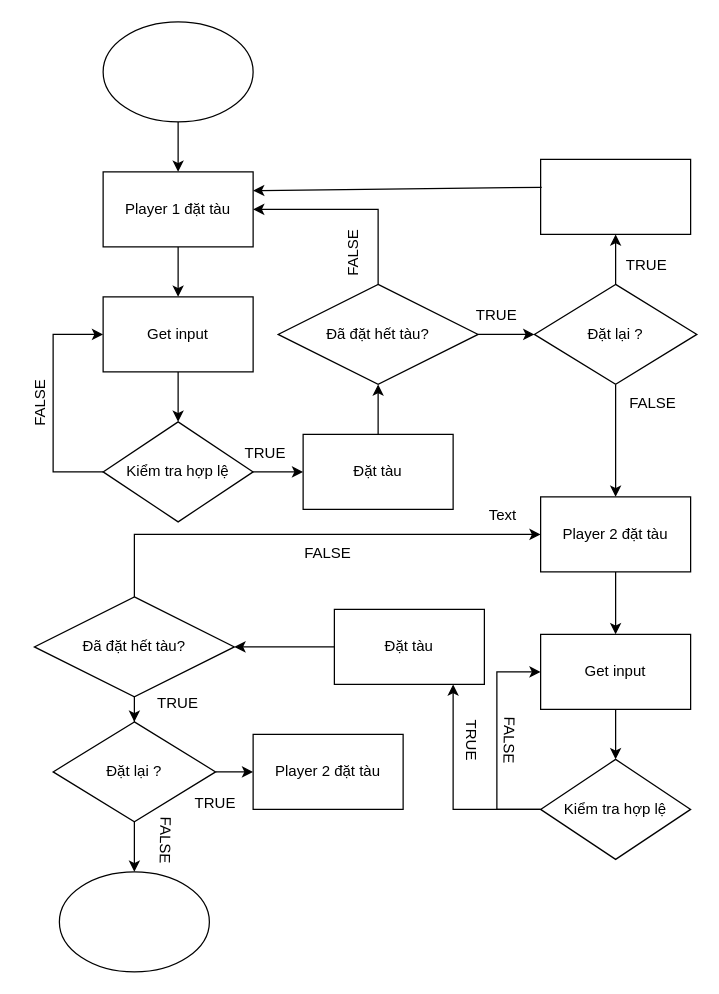
Some shapes in this 719 by 994 pixel diagram are drawn without their labels. The centre of each missing label's shape, as x and y in pixels:
"END" belongs at point (133, 921).
"Reset Map" belongs at point (615, 196).
"START" belongs at point (177, 71).
